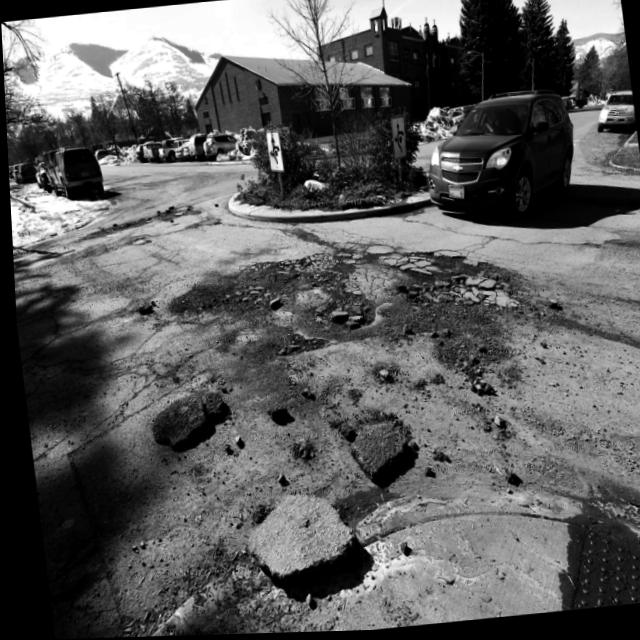pathole: (188, 252, 551, 381), (82, 202, 219, 246)
